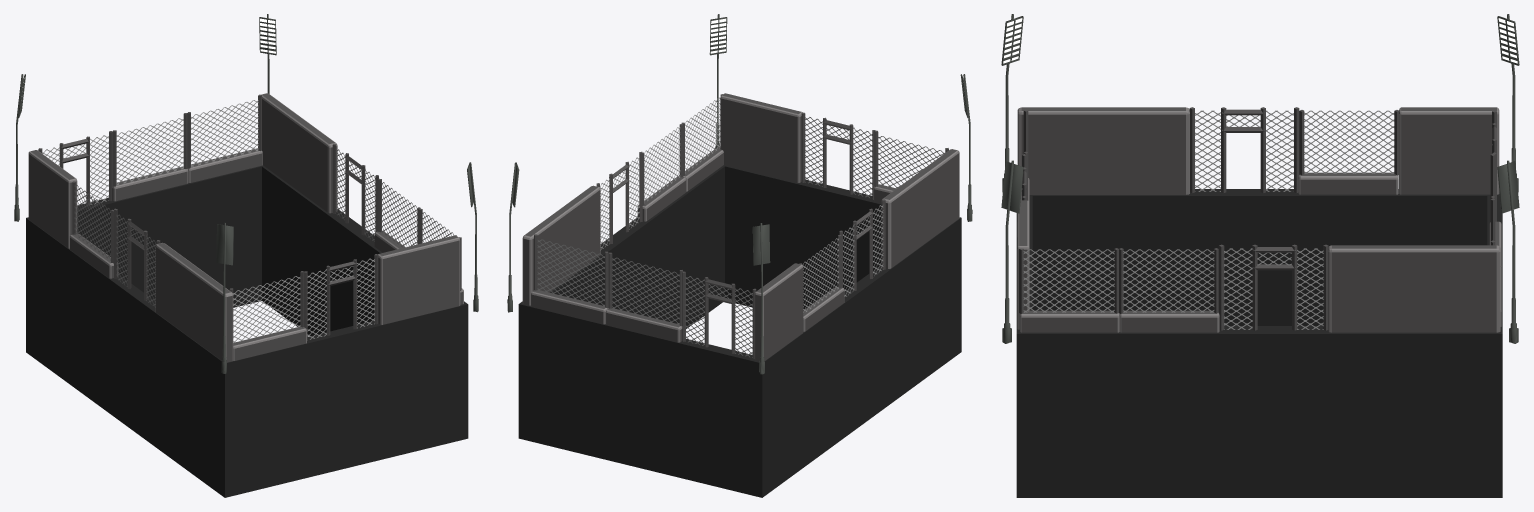
Rendered from generalScenario.gltf.
The picture shows the model from 3 angles, left to right: view 1: azimuth 30°, elevation 25°; view 2: azimuth 150°, elevation 25°; view 3: azimuth 270°, elevation 25°; orthographic projection. The views are drawn at different scales.
Parts seen in each view (by area): view 1: Cube.001_Label_0; view 2: Cube.001_Label_0; view 3: Cube.001_Label_0.
Part boxes in pixels (x1,y1,x2,y2): Cube.001_Label_0: (14, 14, 478, 497); Cube.001_Label_0: (507, 14, 972, 497); Cube.001_Label_0: (1001, 14, 1519, 497).
Size of the model in its own units: 12.61 by 12.9 by 17.92.
Materials: 5 (2 with a texture image).
